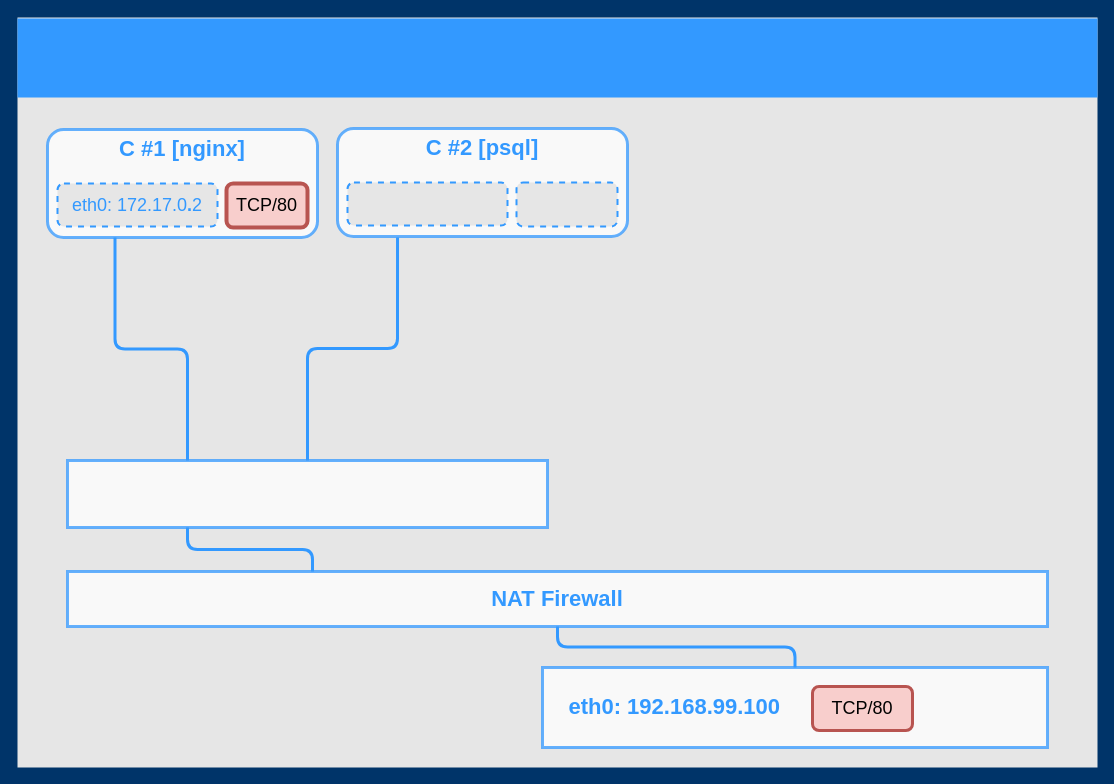
The diagram is 1114 pixels wide and 784 high, and some of its shapes have lost their labels. The shapes that lost their labels are listed below. From the top down, each one's centre as x and y in pixels, then its label:
At [557,57]: "Host Running Docker".
At [427,203]: "eth0: 172.17.0 . 3".
At [566,204]: "TCP/ 5432".
At [307,493]: "docker0: 172.17.0.0/16".
